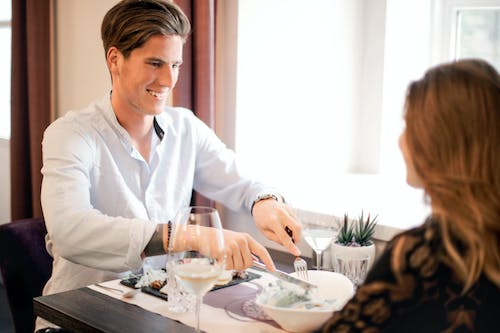knife: (251, 260, 319, 288)
